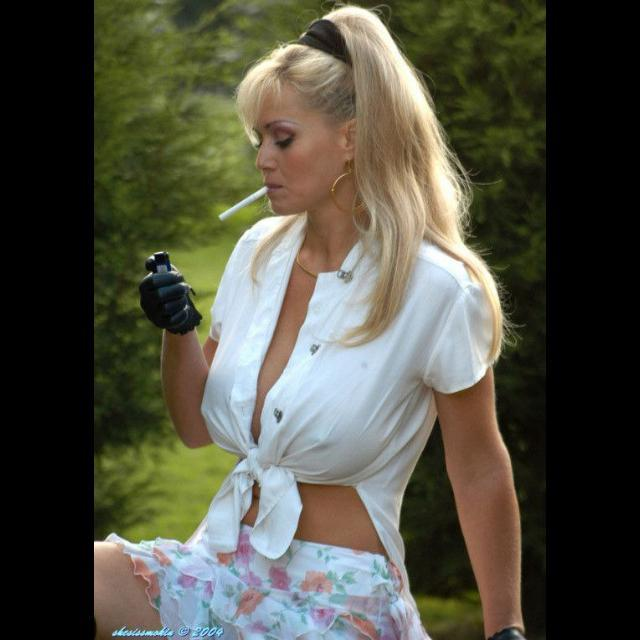rokok: (214, 183, 270, 224)
